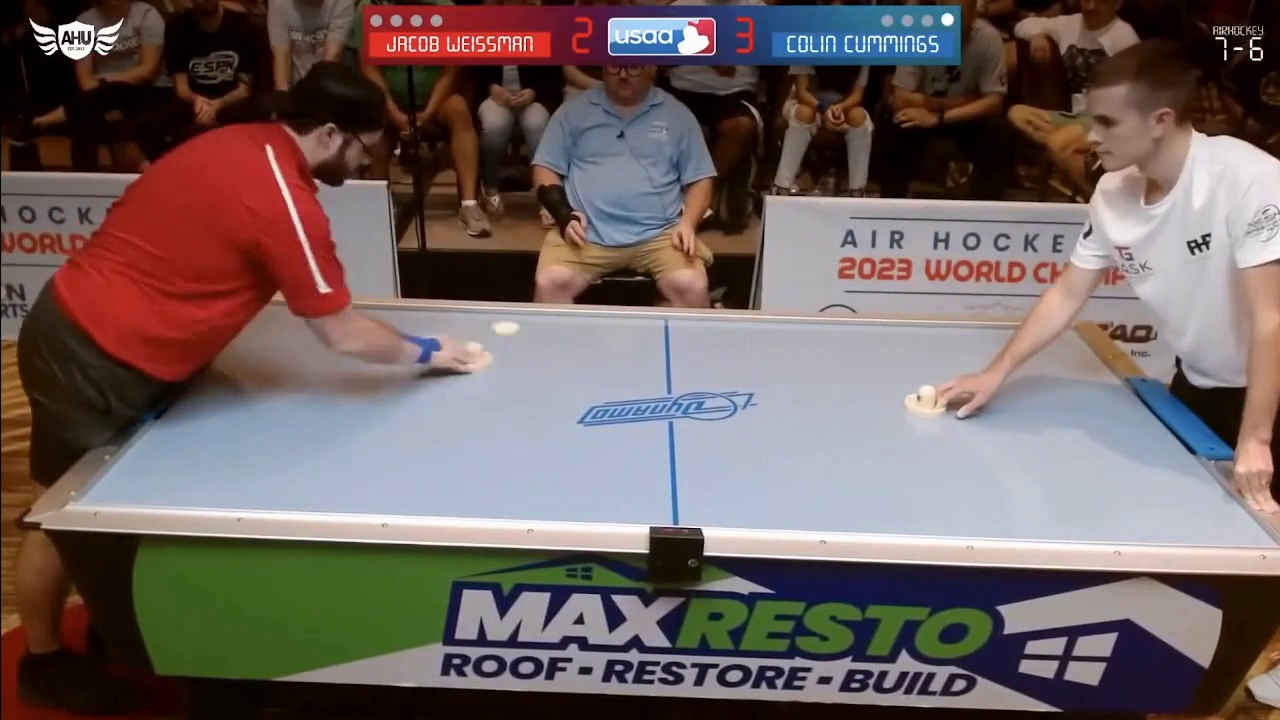player: (440, 343, 497, 370), (909, 384, 952, 419)
puck: (493, 319, 522, 338)
table: (87, 289, 1257, 569)
